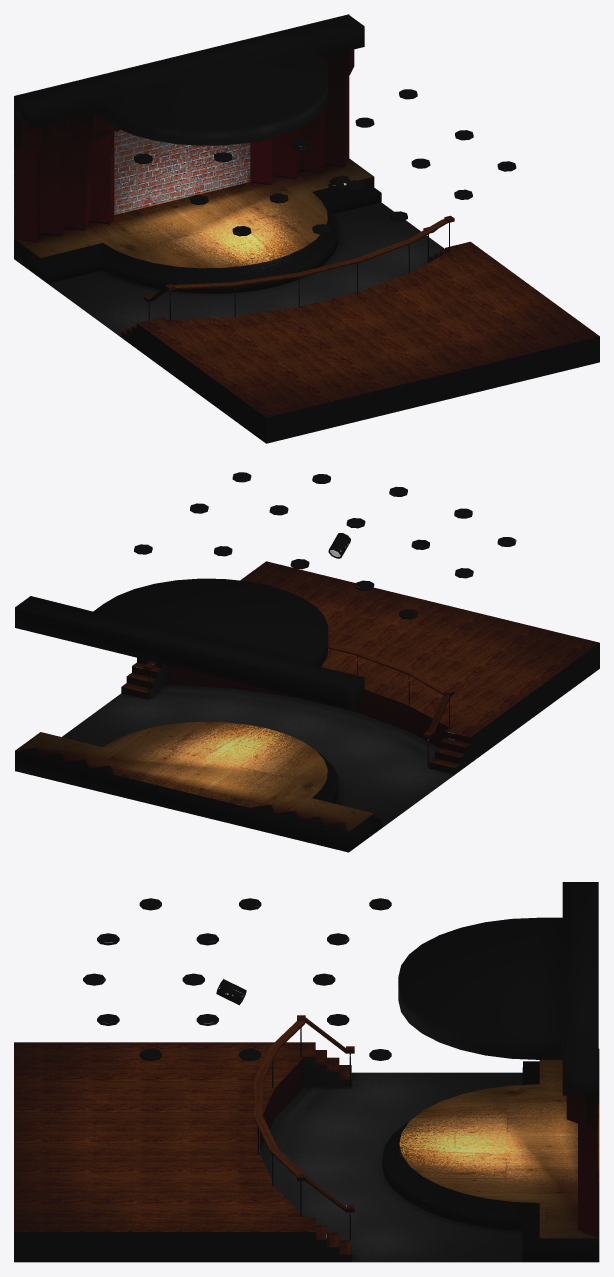
Rendered from lowbake.gltf.
3 renders of one model, top to bottom at view 1: azimuth 30°, elevation 25°; view 2: azimuth 150°, elevation 25°; view 3: azimuth 270°, elevation 25°, orthographic. The views are drawn at different scales.
Visible parts, largest first — view 1: Railing; view 2: Railing; view 3: Railing.
Part boxes in pixels (box(x1,y1,x2,y2)): Railing: box(14, 14, 599, 443); Railing: box(15, 472, 599, 852); Railing: box(14, 882, 599, 1262).
Size of the model in its own units: 3.21 by 1.5 by 4.17.
Materials: 1 (1 with a texture image).
